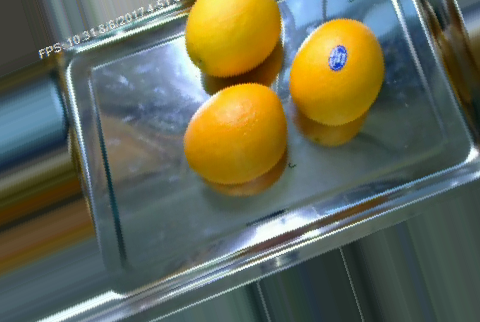Orange: (181, 81, 289, 184), (289, 17, 383, 125), (184, 0, 281, 75)
